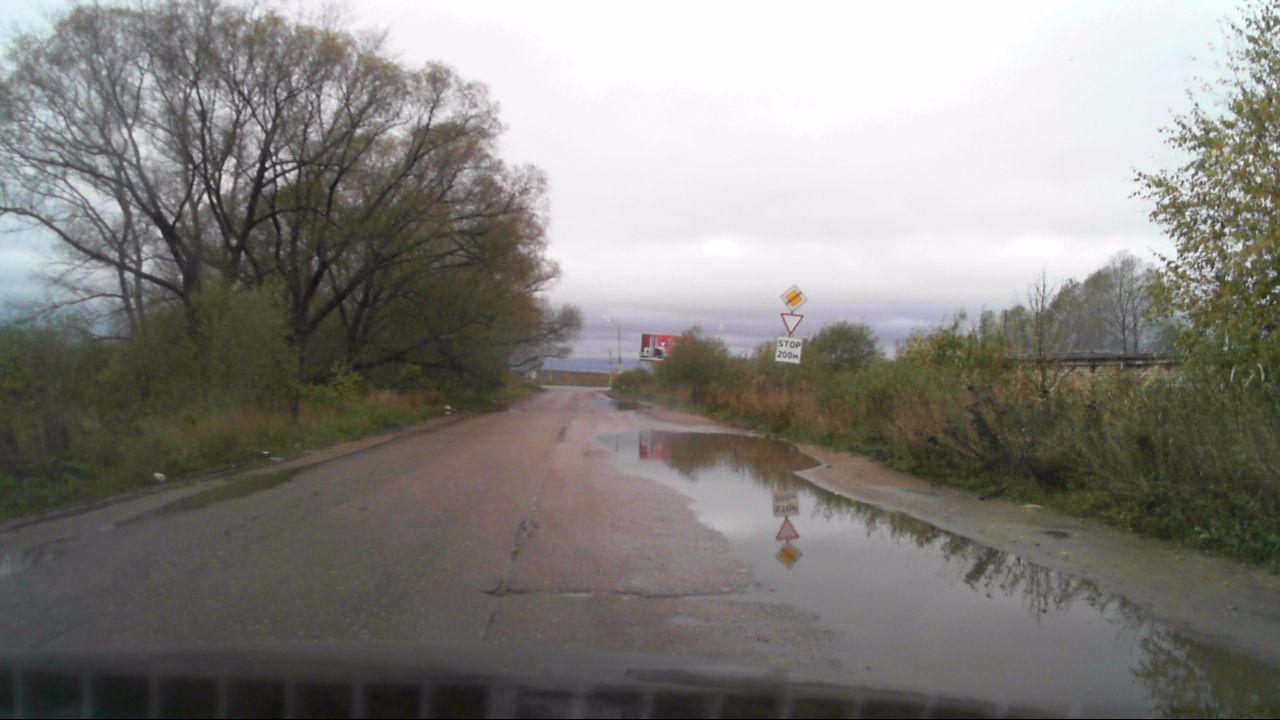main road: (779, 282, 807, 313)
